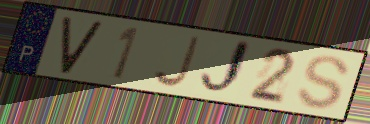1: (113, 27, 142, 83)
2: (246, 46, 298, 107)
J: (197, 37, 255, 98), (151, 34, 203, 89)
S: (295, 54, 352, 111)
V: (58, 15, 106, 76)
